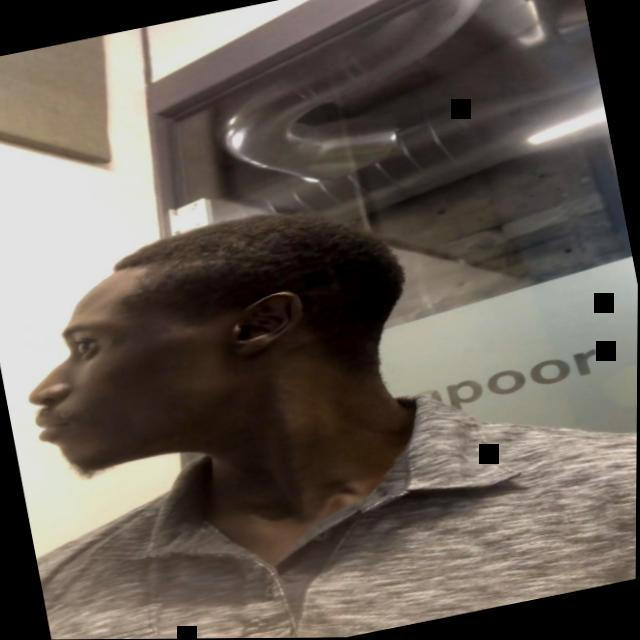NO-Mask: (11, 248, 305, 489)
